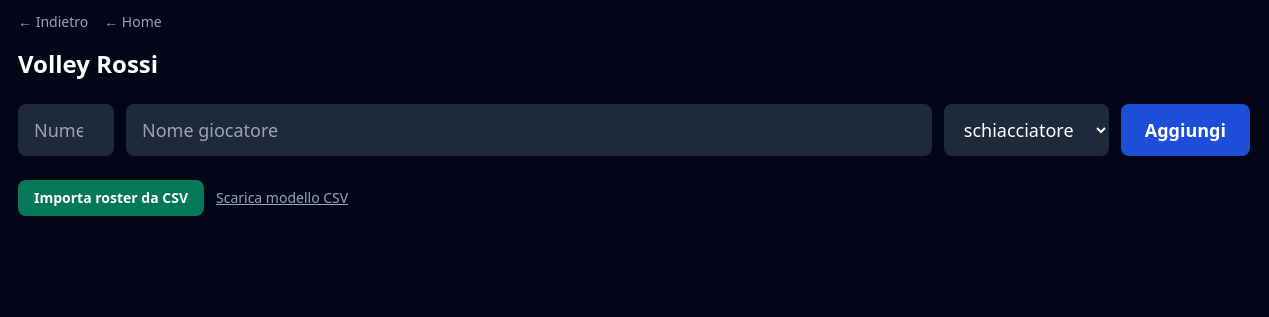
PlayerRosterEditor › archivia un giocatore e lo rimuove dalla lista
This screenshot has width=1269, height=317.
Type "7" into the number field with placeholder "Numero" at coordinates (66, 130), box [18,104,114,156]
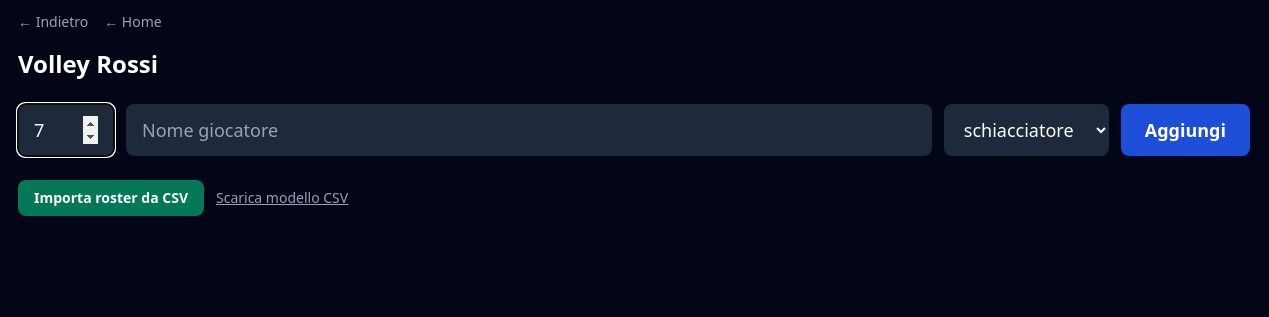
Type "Bianchi" into the field with placeholder "Nome giocatore" at coordinates (529, 130), box [126,104,932,156]
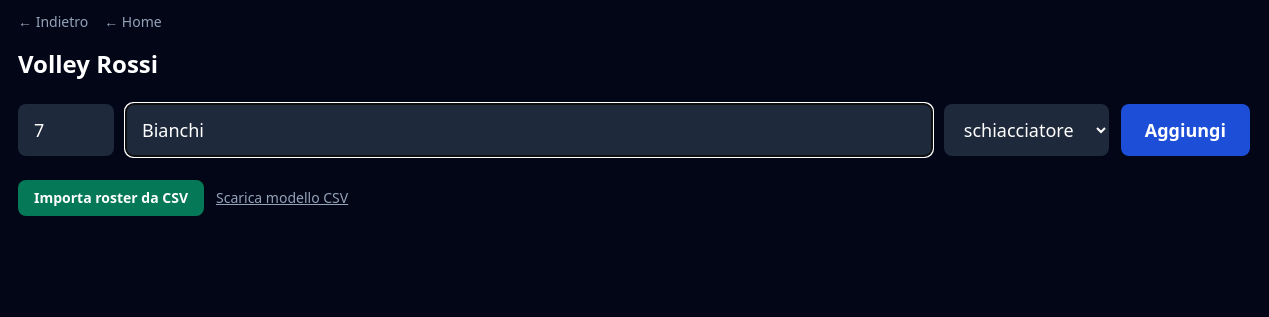
Click the button "Aggiungi" at coordinates (1185, 130), box [1121,104,1250,156]
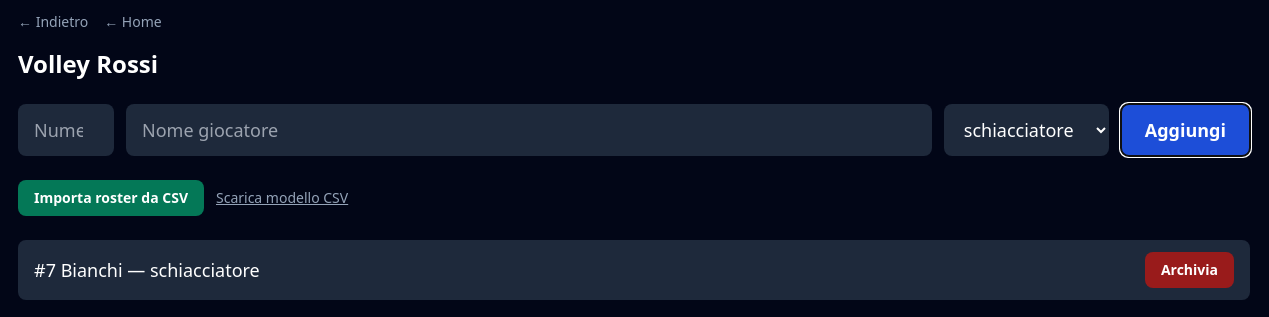
Expected: the text "#7 Bianchi — schiacciatore" is shown, [34,256,260,284]
Click the button "Archivia" at coordinates (1189, 270), box [1145,252,1234,288]
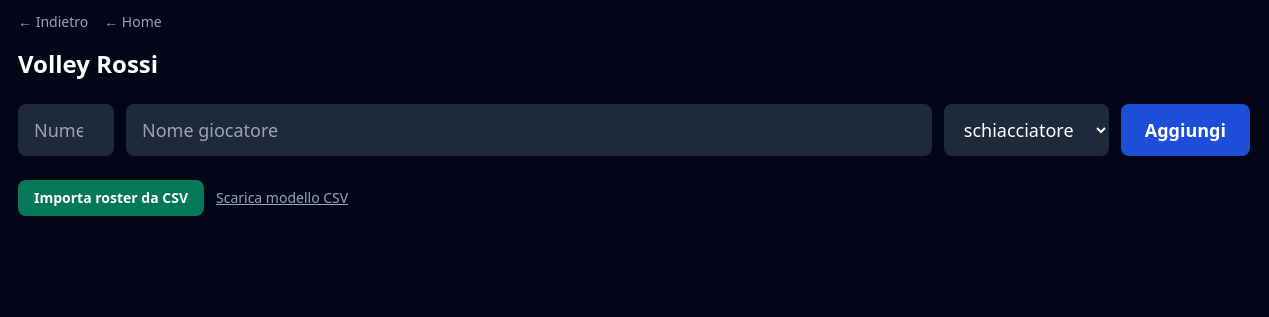
Expected: the text "#7 Bianchi" is gone
